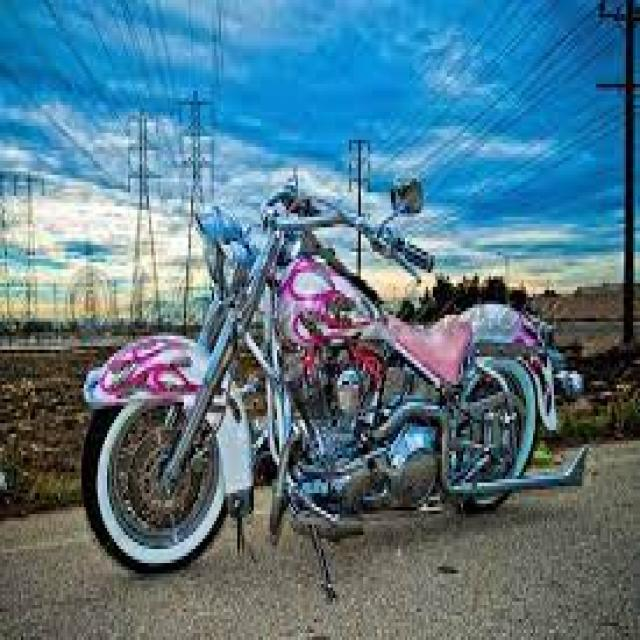Bike: (79, 168, 589, 577)
